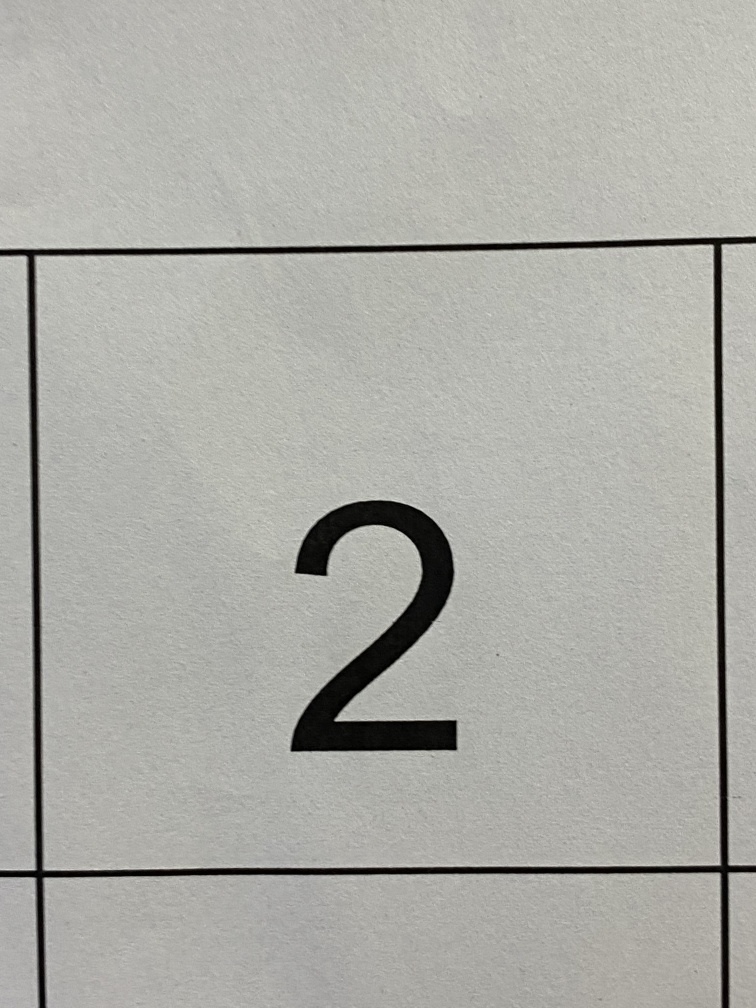two: (235, 450, 527, 828)
